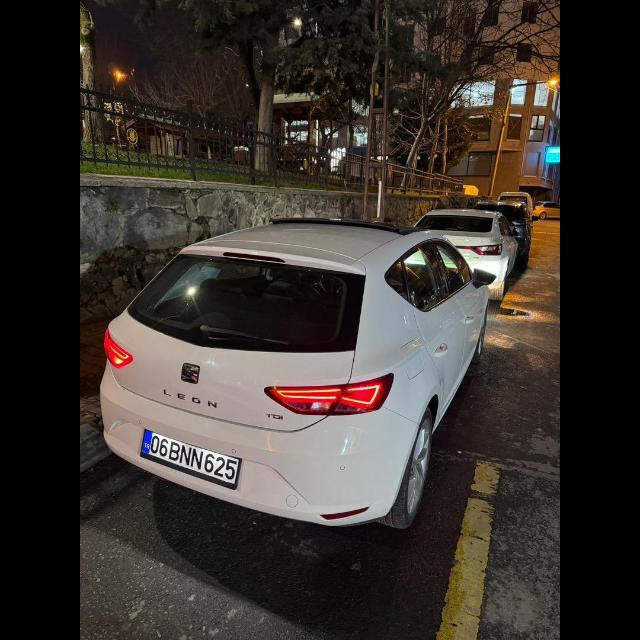Plaka: (140, 431, 242, 487)
